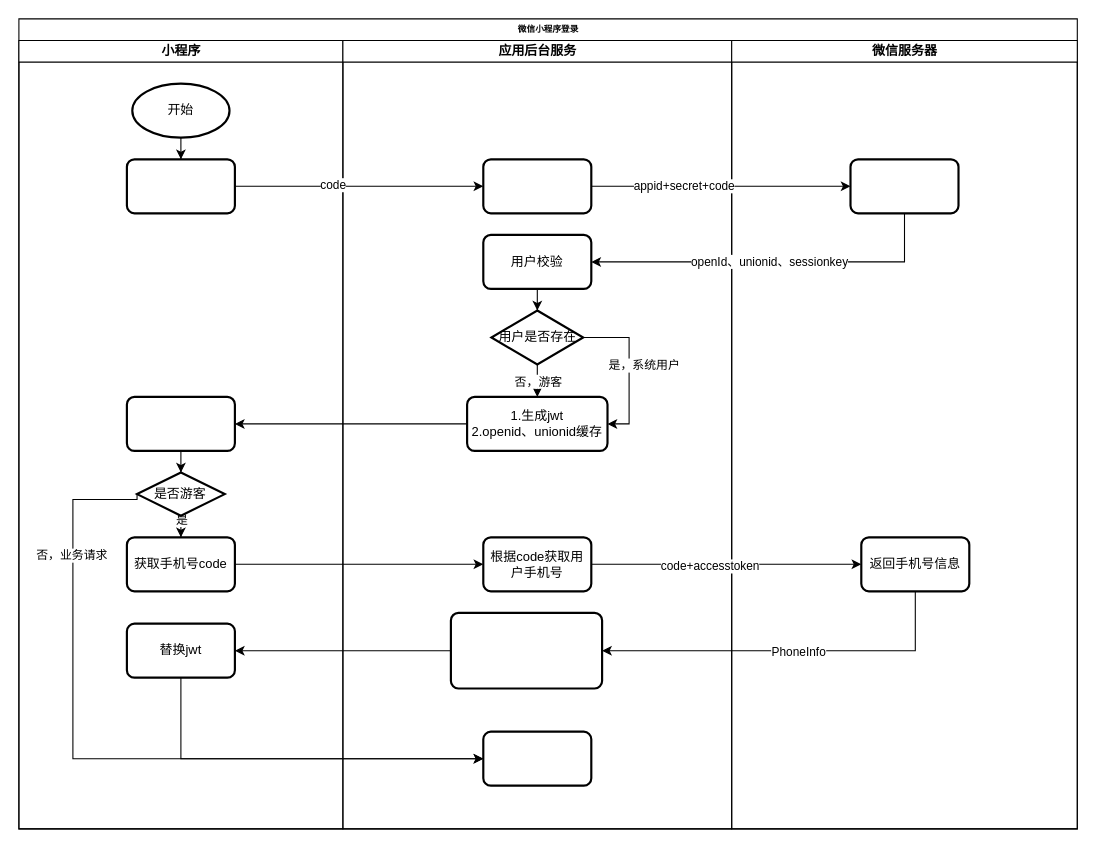
Image size: 1096x848. Some labels were removed from this diagram. The centre of each missing label's shape, as x and y in pixels:
"1.根据手机号绑定用户,不存在则新增 2.生成新的jwt 3.open、unionid缓存更新" belongs at pixel 526 650.
"wx.login()" belongs at pixel 180 186.
"业务请求" belongs at pixel 537 758.
"根据code获取openId+sessionkey" belongs at pixel 537 186.
"用户类型校验" belongs at pixel 180 423.
"返回openId+sessionkey" belongs at pixel 904 186.
